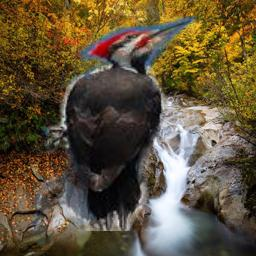Woodpecker: (34, 16, 203, 231)
